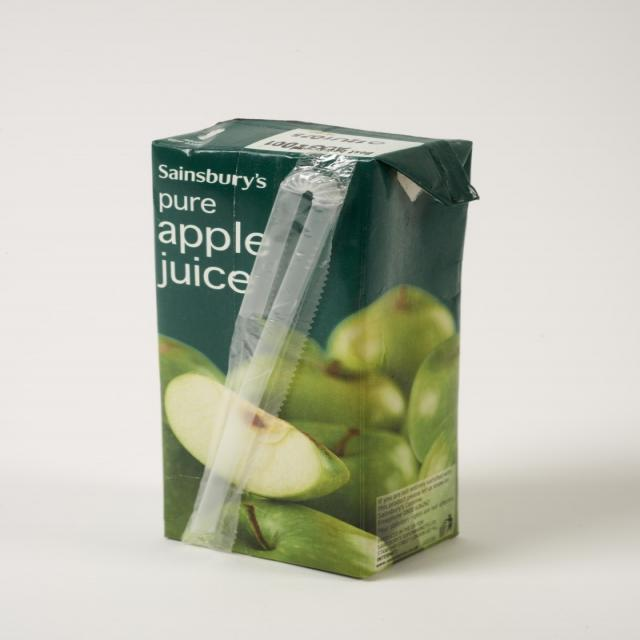non_white_jug: (132, 89, 481, 580)
